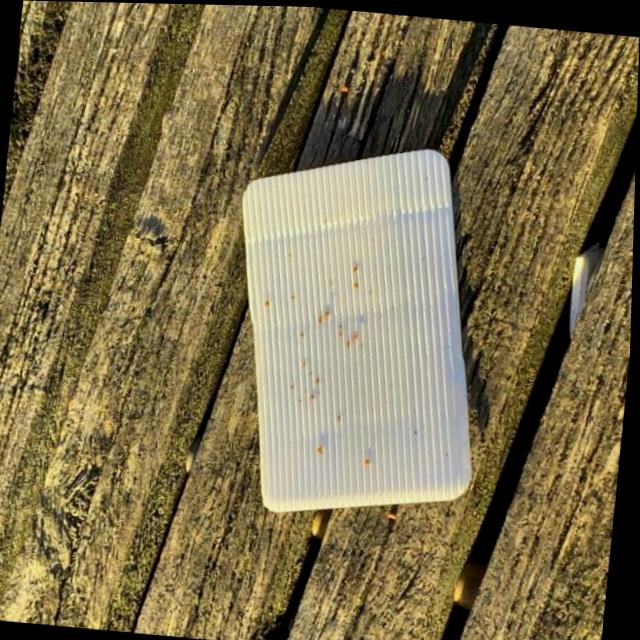Paper: (209, 124, 508, 528)
